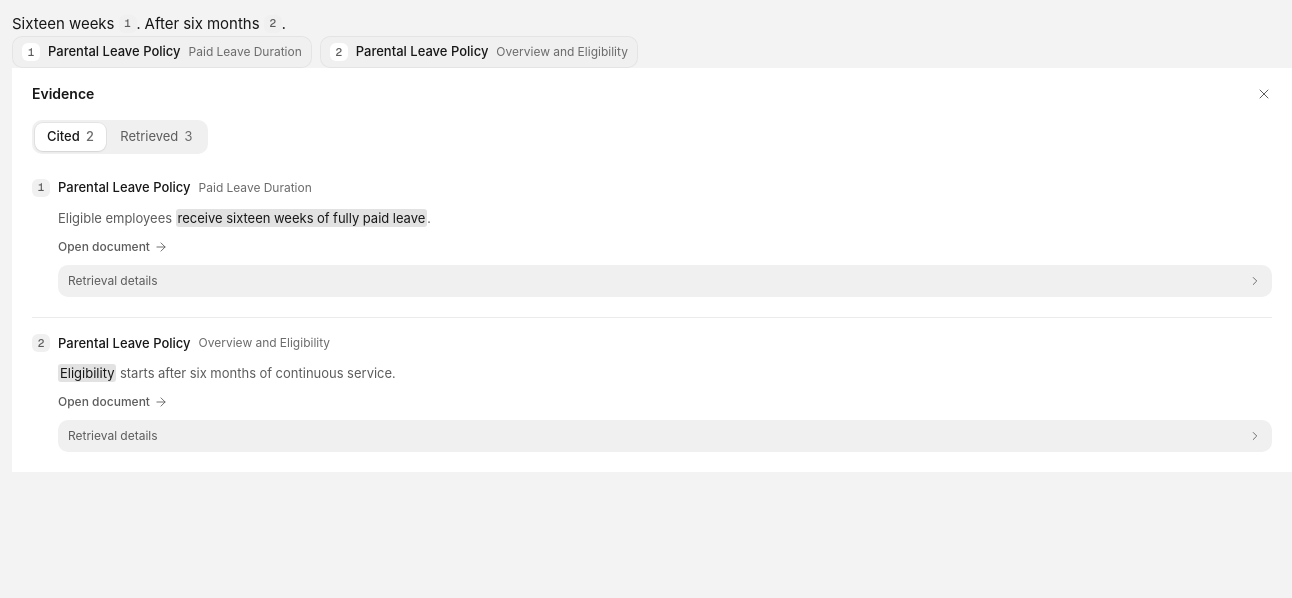
Test: EvidencePanel › copies the chunk id and shows Copied
What coordinates should you click on to do the following:
click the button "Retrieval details" below "Eligible employees"
I would click on:
 (113, 280)
Its box is [58,264,1272,296].
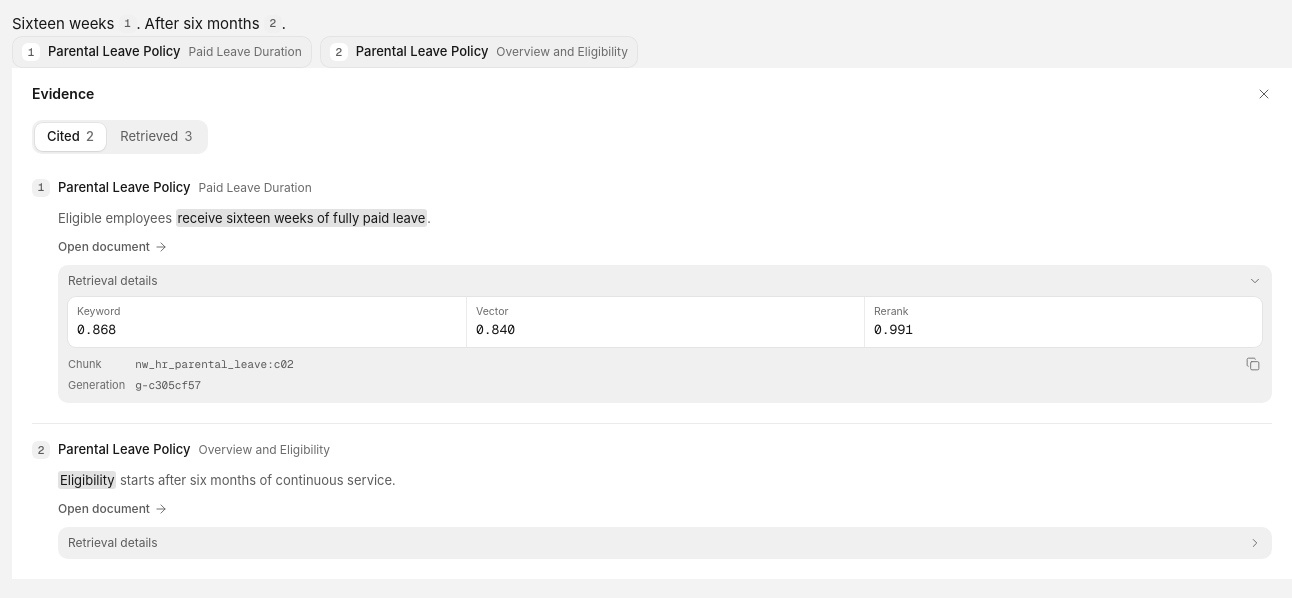
What coordinates should you click on to do the following:
click the button named "Copy chunk ID"
I would click on:
 (1253, 364)
Its box is [1244,355,1262,373].
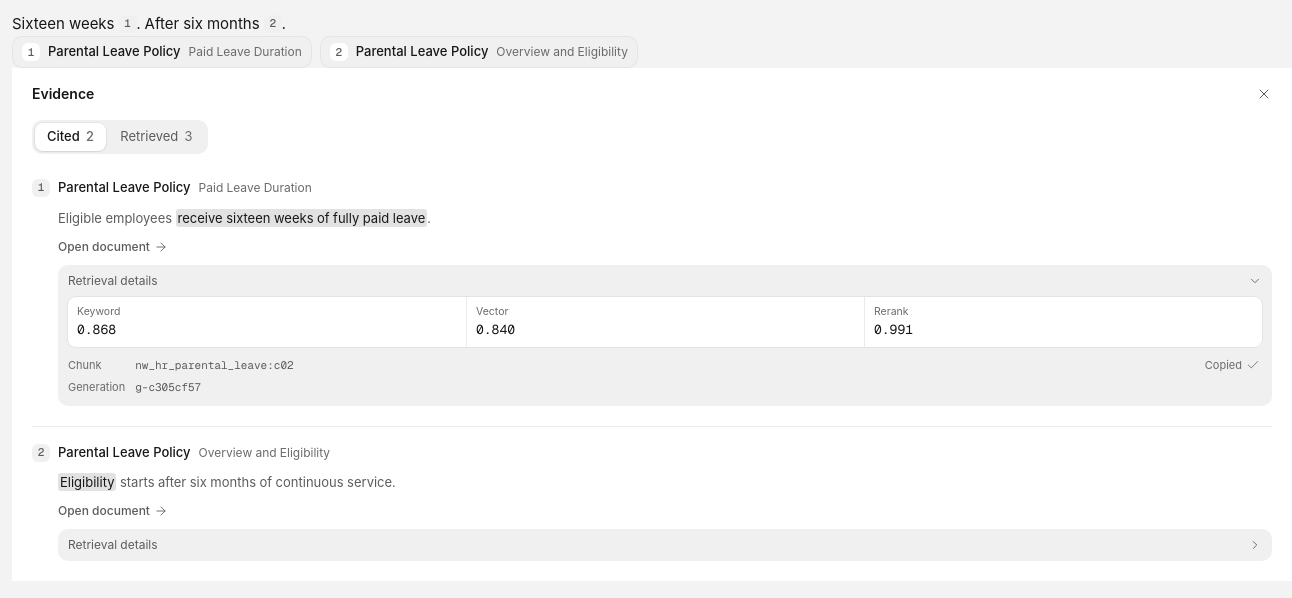
Now the text "Copied" is shown, box [1205,357,1242,373]
